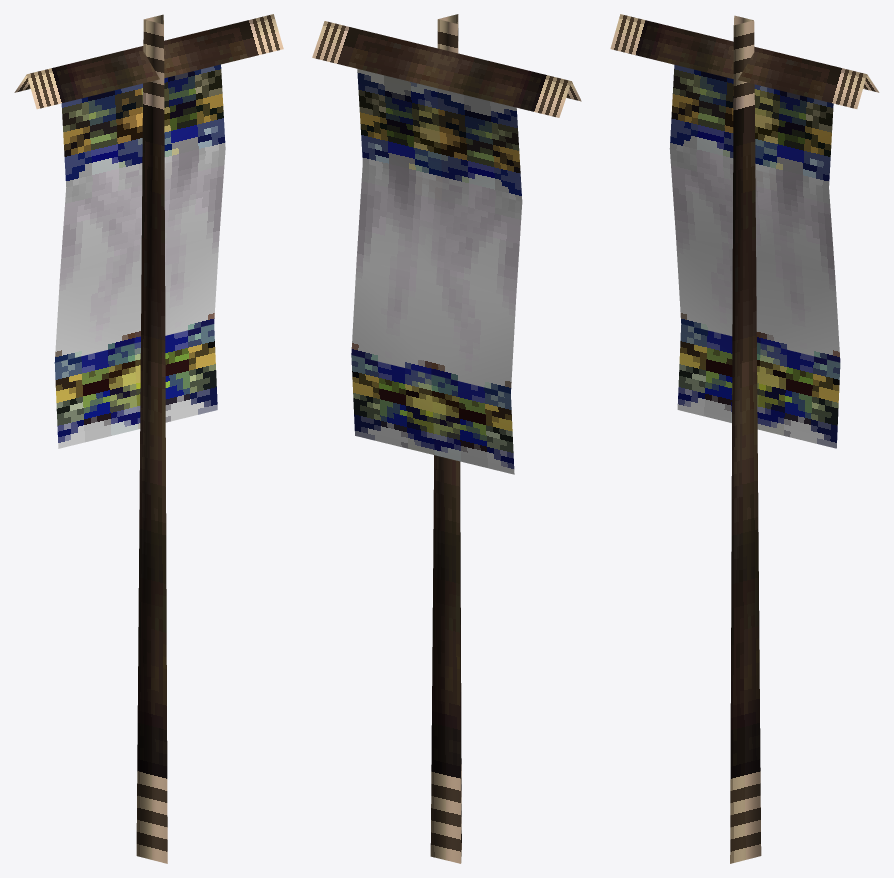
The model's file is garrison_flag_base.glb.
3 renders of one model, left to right at view 1: azimuth 30°, elevation 25°; view 2: azimuth 150°, elevation 25°; view 3: azimuth 330°, elevation 25°, orthographic.
Parts seen in each view (by area): view 1: MeshRoot; view 2: MeshRoot; view 3: MeshRoot.
Boxes of the visible parts, x1,y1,x2,y2 form: MeshRoot: [14, 14, 283, 863]; MeshRoot: [312, 14, 581, 863]; MeshRoot: [610, 14, 879, 863].
Bounding box in the file's own units: 0.7266 × 2.35 × 0.1628.
2 materials, 2 textured.
